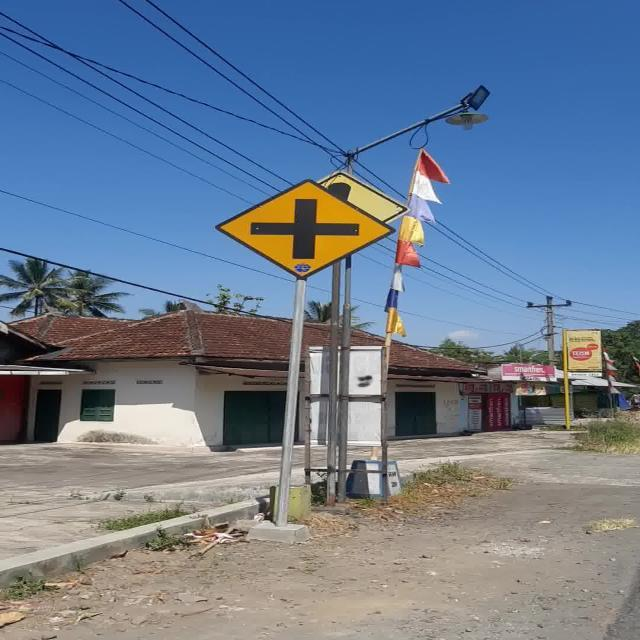Persimpangan 4: (216, 179, 396, 278)
